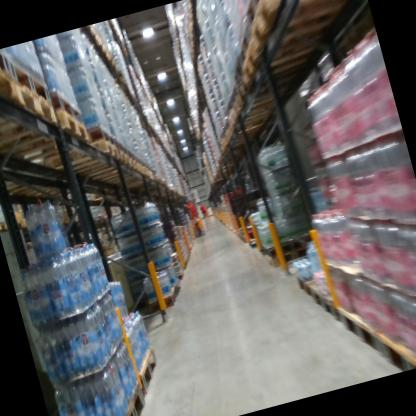pallet: (233, 16, 339, 90), (0, 106, 95, 177), (242, 0, 369, 51), (32, 134, 123, 182), (0, 71, 58, 146), (233, 61, 309, 111), (57, 378, 149, 416), (118, 338, 167, 399), (61, 147, 132, 186), (371, 315, 416, 376), (335, 301, 382, 357), (302, 269, 340, 325), (262, 239, 321, 274), (258, 230, 323, 261), (226, 20, 263, 73), (289, 258, 320, 301), (240, 0, 280, 23), (144, 287, 177, 311), (168, 268, 185, 281)
pallet_truck: (182, 188, 208, 239)
